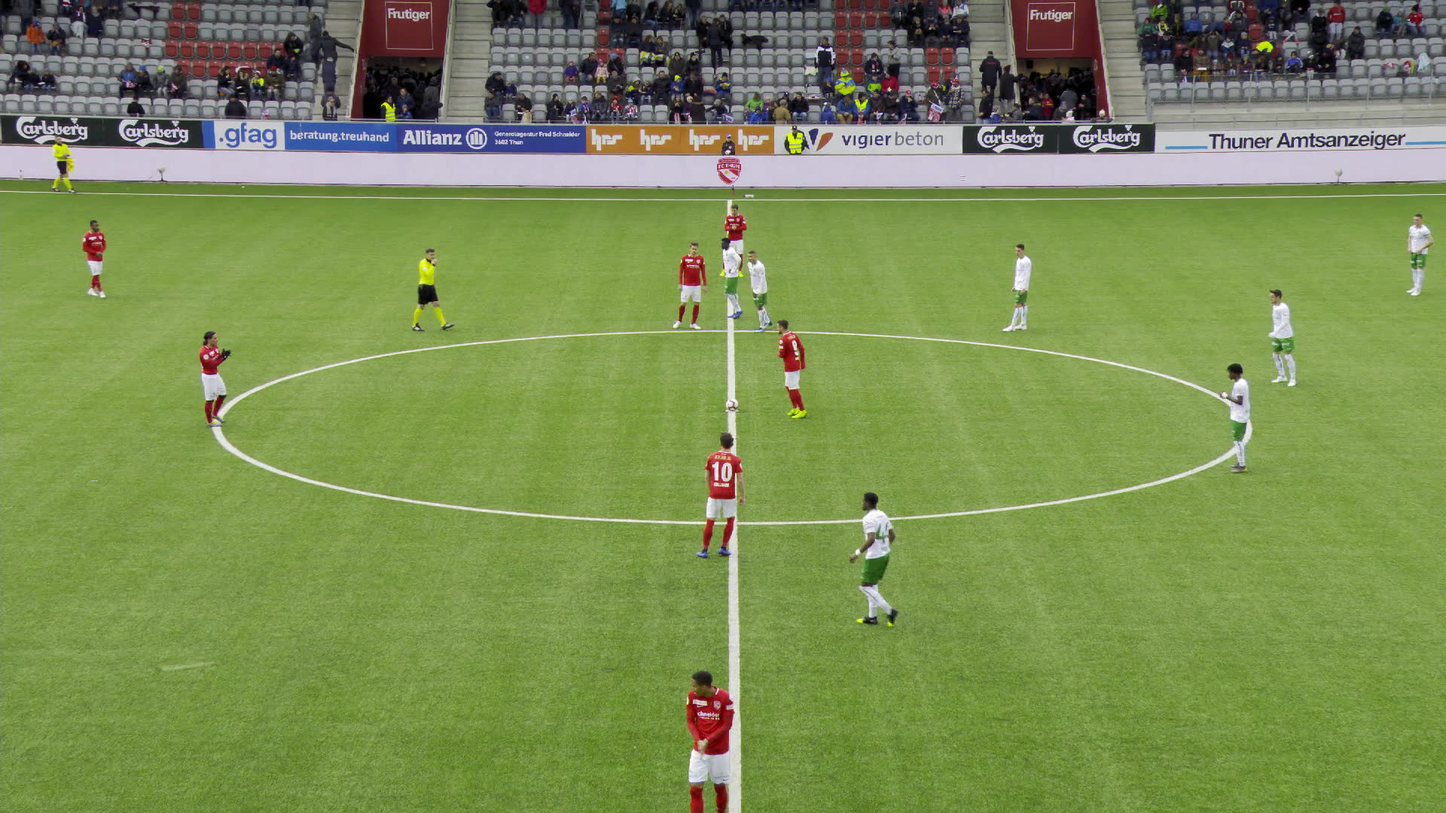ball: (725, 397, 740, 412)
player: (685, 670, 740, 812), (847, 490, 900, 628), (695, 432, 746, 558), (1220, 363, 1252, 473), (197, 329, 231, 427), (774, 319, 807, 419), (671, 241, 707, 328), (1001, 241, 1031, 331), (1268, 286, 1295, 385), (1405, 213, 1435, 297), (746, 250, 773, 331), (718, 236, 744, 319), (718, 203, 746, 277), (80, 218, 106, 297)
referee: (409, 246, 451, 331), (50, 132, 74, 192)
